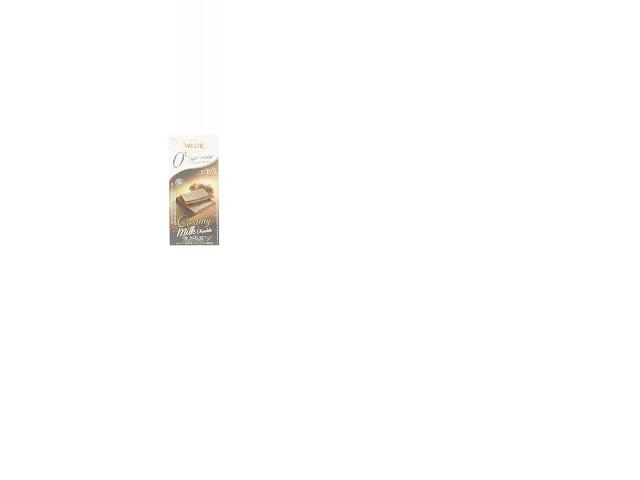chocolate: (165, 134, 221, 246)
